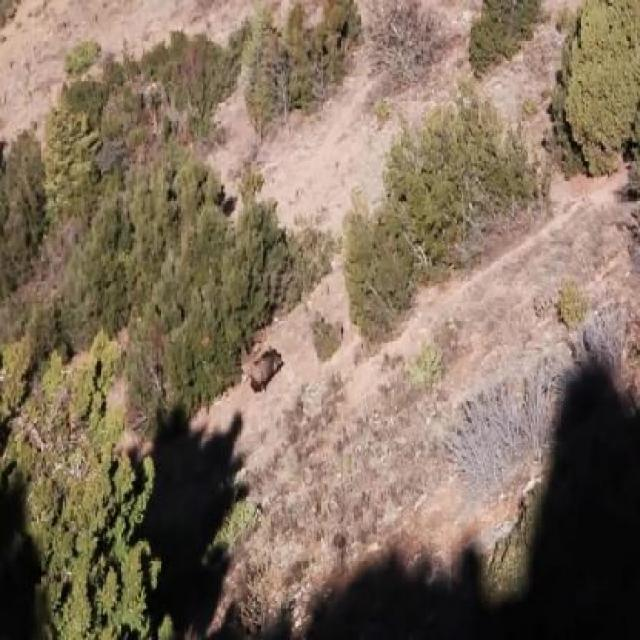pig: (251, 335, 289, 413)
